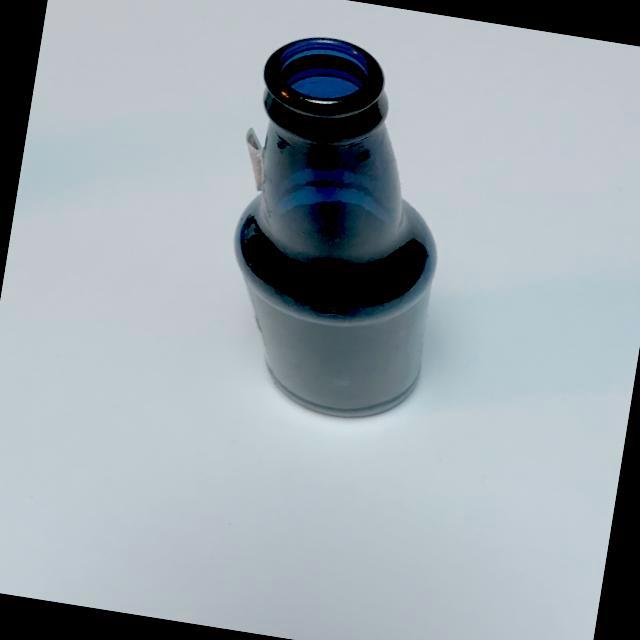glass: (192, 23, 479, 440)
